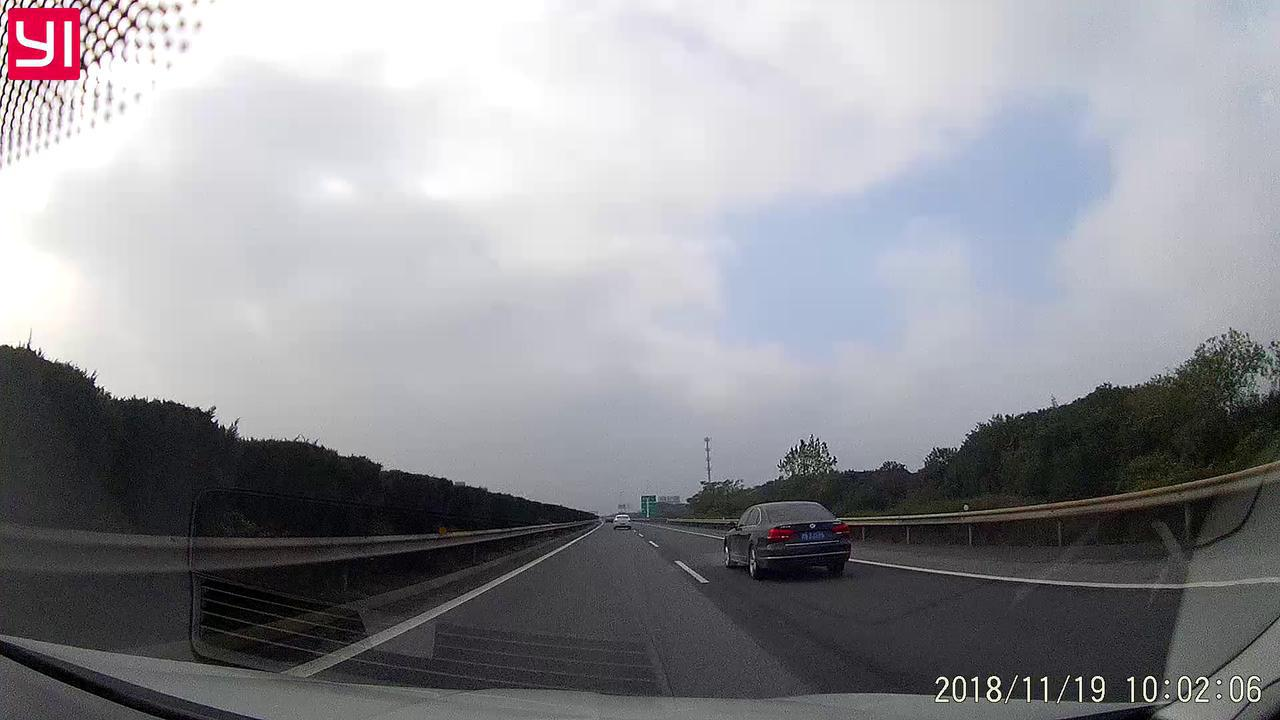car: (723, 497, 852, 578)
